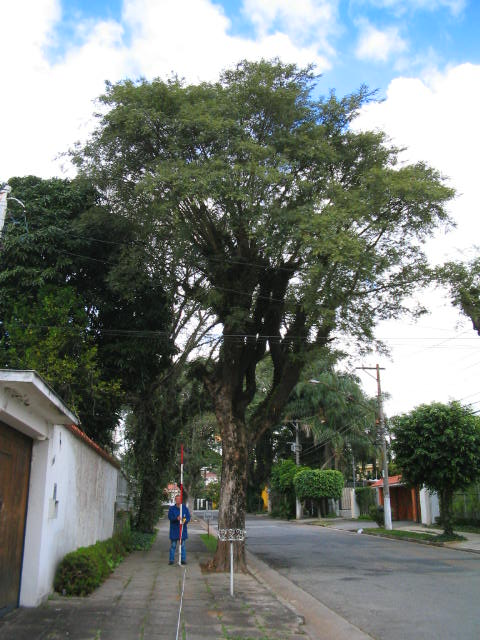crown: (63, 55, 462, 371), (391, 401, 478, 492)
stem: (199, 433, 270, 572), (430, 491, 463, 534)
stick: (172, 443, 192, 566)
tree: (60, 55, 466, 575), (390, 399, 480, 534)
